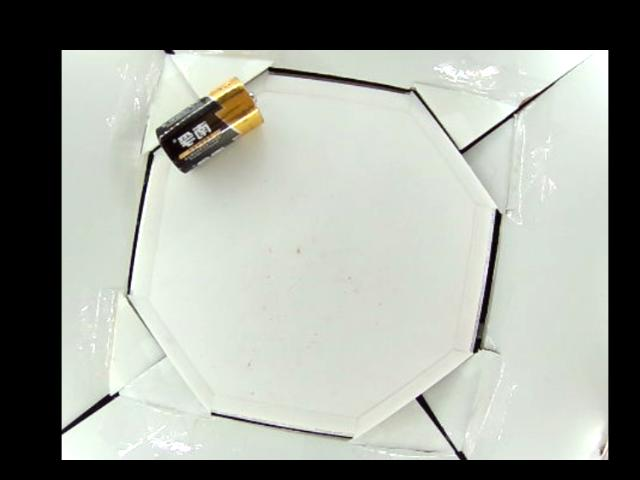Battery: (153, 76, 264, 174)
